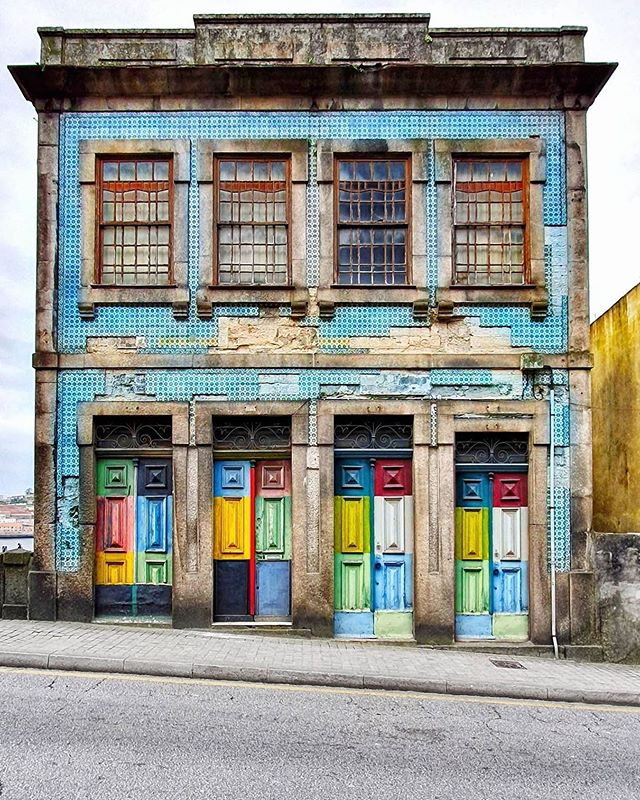building: (28, 42, 588, 647)
door: (95, 454, 173, 619), (212, 455, 290, 620), (334, 449, 412, 614), (453, 464, 531, 629)
window: (98, 157, 172, 283), (217, 151, 291, 277), (337, 151, 411, 277), (449, 152, 523, 278)
